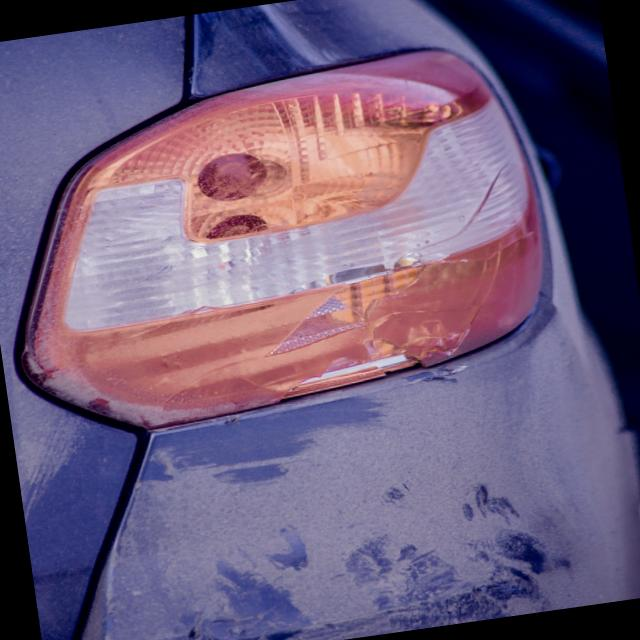Phare abime: (231, 167, 541, 413)
